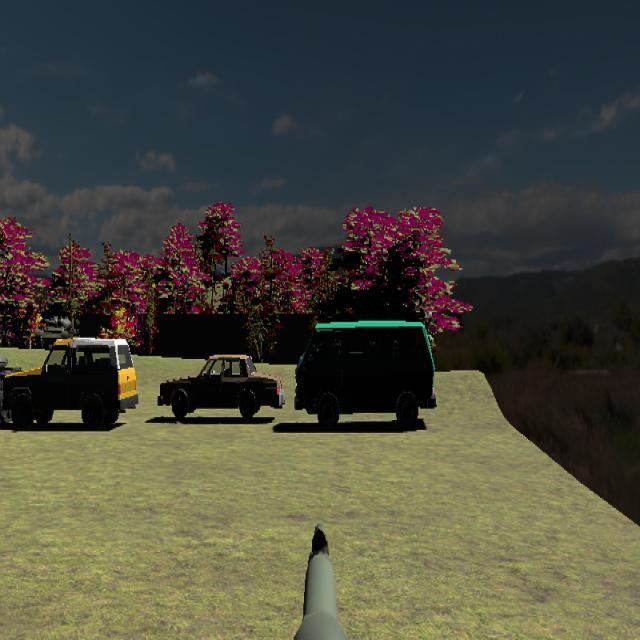Tank: (34, 312, 78, 351)
car: (294, 319, 437, 430), (1, 337, 139, 431), (158, 353, 285, 423)
